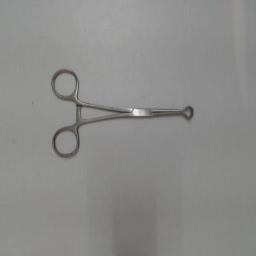Babcock Tissue Forceps: (48, 64, 196, 162)
